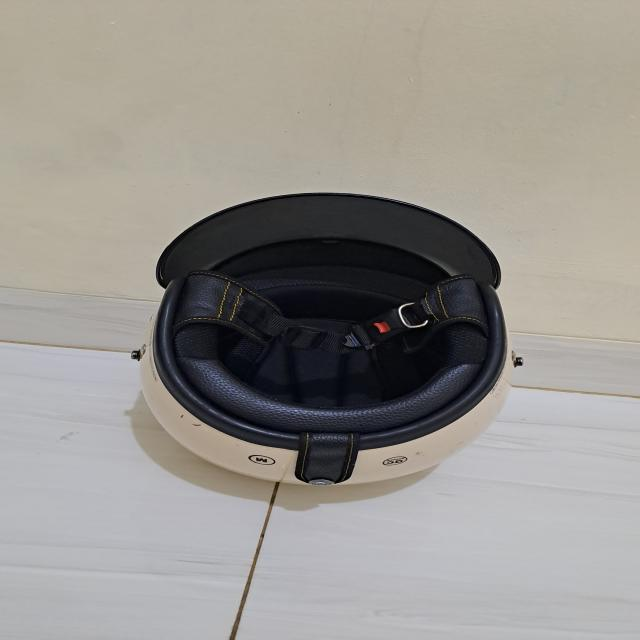Helm: (129, 183, 523, 489)
